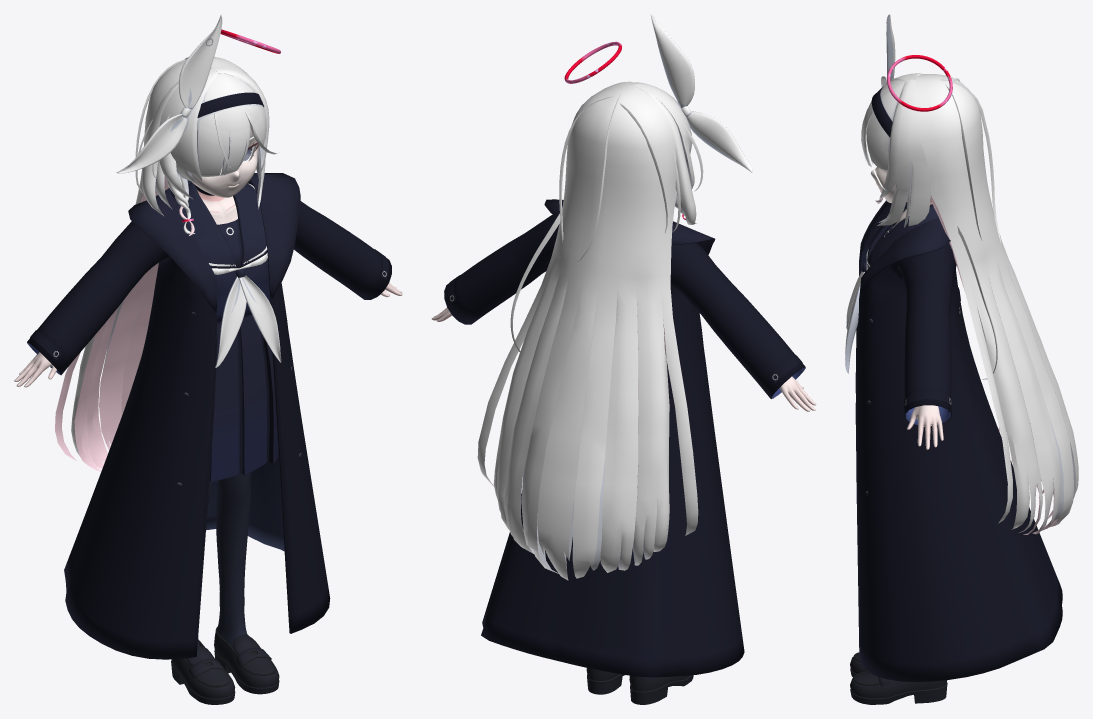
3 views of the same model, side by side, from view 1: azimuth 30°, elevation 25°; view 2: azimuth 150°, elevation 25°; view 3: azimuth 270°, elevation 25° (orthographic).
Visible parts, largest first — view 1: coat, Plana_hair1, skirt, shoes, Plana_bodyblack2, clothes2, ribbon1, ribbon2, Plana_body, Plana_face, clothes1, hairband; view 2: Plana_hair1, coat, ribbon1, shoes, Plana_body; view 3: coat, Plana_hair1, shoes, clothes2, Plana_body, ribbon2, halo, ribbon1, hairband.
Boxes of the visible parts, bbox=[...] form: coat: bbox=[27, 173, 391, 659]; Plana_hair1: bbox=[55, 56, 277, 471]; skirt: bbox=[209, 314, 278, 481]; shoes: bbox=[171, 626, 279, 704]; Plana_bodyblack2: bbox=[185, 472, 251, 661]; clothes2: bbox=[172, 181, 267, 274]; ribbon1: bbox=[116, 14, 222, 173]; ribbon2: bbox=[215, 268, 281, 367]; Plana_body: bbox=[14, 188, 402, 387]; Plana_face: bbox=[191, 127, 258, 197]; clothes1: bbox=[194, 184, 270, 322]; hairband: bbox=[197, 92, 264, 117]; Plana_hair1: bbox=[477, 81, 703, 580]; coat: bbox=[444, 199, 805, 677]; ribbon1: bbox=[650, 14, 752, 172]; shoes: bbox=[586, 668, 693, 704]; Plana_body: bbox=[431, 307, 816, 411]; coat: bbox=[855, 200, 1062, 681]; Plana_hair1: bbox=[861, 73, 1078, 534]; shoes: bbox=[850, 652, 947, 704]; clothes2: bbox=[866, 202, 938, 269]; Plana_body: bbox=[892, 199, 943, 449]; ribbon2: bbox=[845, 262, 866, 373]; halo: bbox=[887, 55, 952, 111]; ribbon1: bbox=[881, 14, 895, 87]; hairband: bbox=[871, 86, 892, 137].
Bounding box in the file's own units: 112 × 186 × 58.99.
4 materials, 4 textured.
